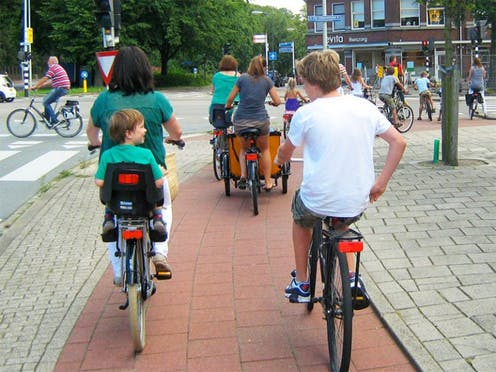cyclist_back: (270, 45, 406, 367), (87, 44, 179, 359), (230, 51, 281, 216), (464, 55, 490, 121), (412, 66, 437, 123)
cyclist_side: (5, 54, 84, 139), (372, 65, 414, 132)
